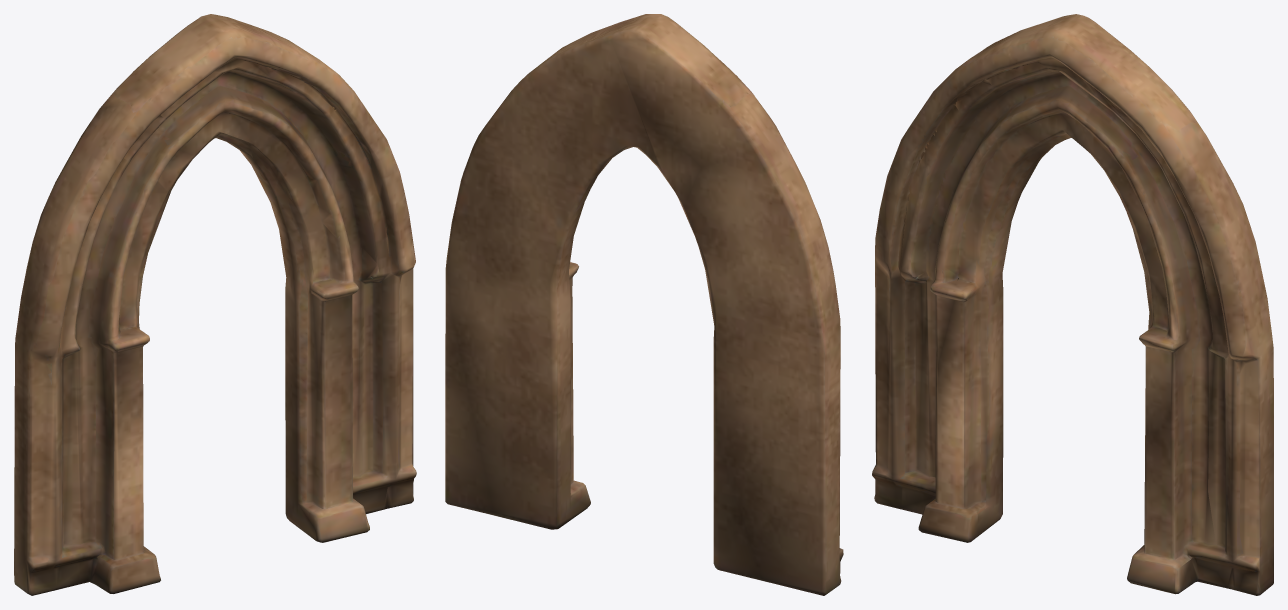
Rendered from rustic-sandstone-arched-doorway-v001.glb.
The picture shows the model from 3 angles, left to right: view 1: azimuth 30°, elevation 25°; view 2: azimuth 150°, elevation 25°; view 3: azimuth 330°, elevation 25°; orthographic projection.
Parts seen in each view (by area): view 1: rustic-sandstone-arched-doorway; view 2: rustic-sandstone-arched-doorway; view 3: rustic-sandstone-arched-doorway.
Boxes of the visible parts, left/top/right/bottom form: rustic-sandstone-arched-doorway: left=14, top=14, right=416, bottom=595; rustic-sandstone-arched-doorway: left=445, top=14, right=843, bottom=595; rustic-sandstone-arched-doorway: left=872, top=14, right=1273, bottom=595.
Bounding box in the file's own units: 1.85 × 2.42 × 0.2998.
Materials: 1 (1 with a texture image).
